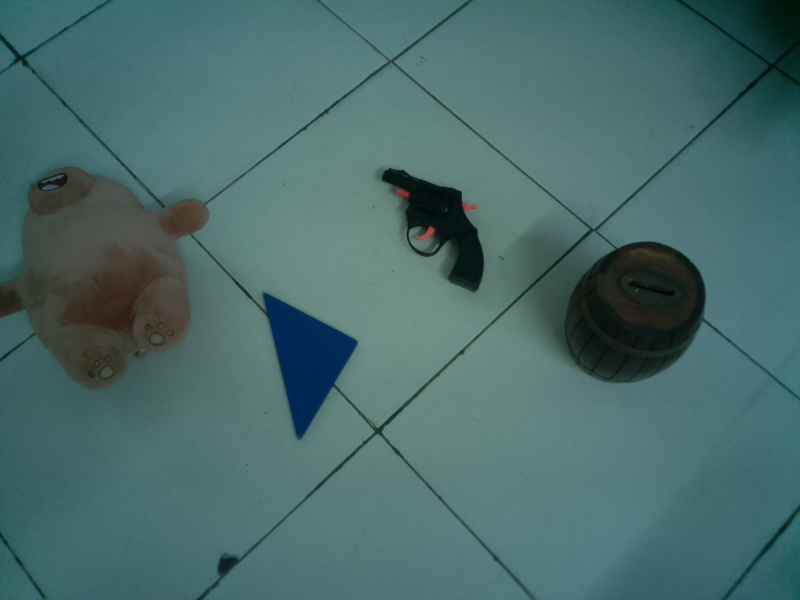Gun: (378, 160, 490, 297)
Triangle: (254, 285, 364, 445)
